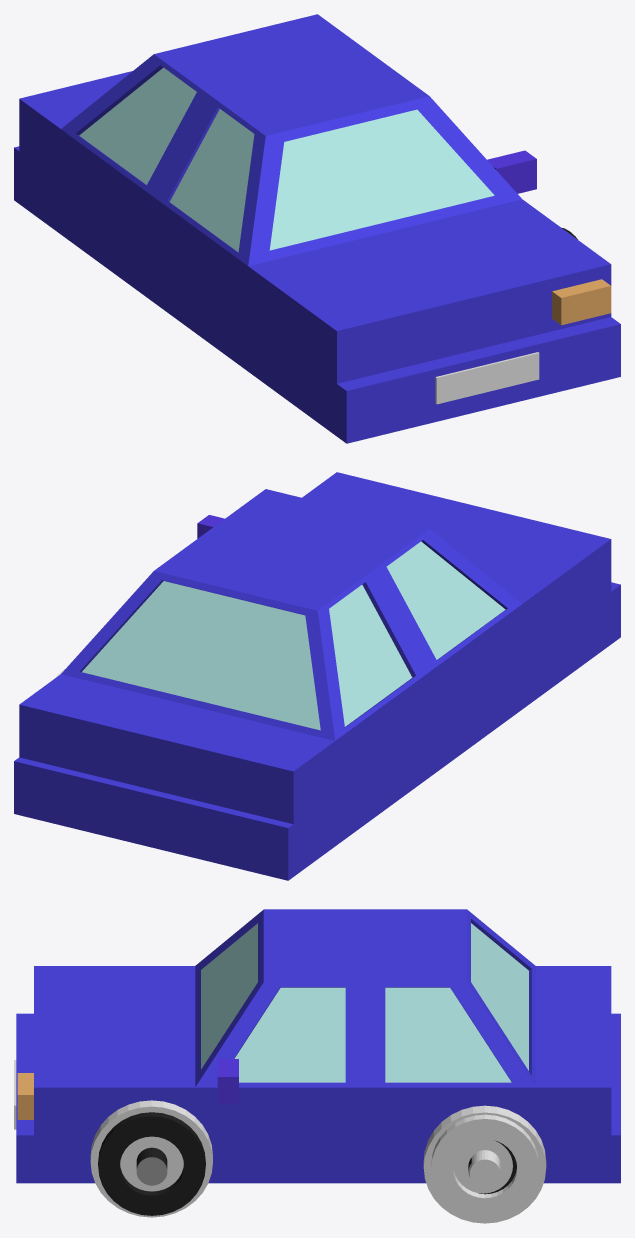
The model's file is purplecar.gltf.
The picture shows the model from 3 angles, top to bottom: view 1: azimuth 30°, elevation 25°; view 2: azimuth 150°, elevation 25°; view 3: azimuth 270°, elevation 25°; orthographic projection. The views are drawn at different scales.
Visible parts, largest first — view 1: Cube, Cube.003, Cube.001, Cube.002; view 2: Cube; view 3: Cube, Cylinder, Cylinder.002, Cylinder.001, Cylinder.003, Cube.002, Cube.001.
Part boxes in pixels (bbox=[...]): Cube: bbox=[14, 14, 620, 443]; Cube.003: bbox=[435, 352, 539, 404]; Cube.001: bbox=[552, 279, 611, 325]; Cube.002: bbox=[487, 150, 536, 193]; Cube: bbox=[14, 472, 620, 880]; Cube: bbox=[16, 909, 620, 1183]; Cylinder: bbox=[98, 1112, 205, 1215]; Cylinder.002: bbox=[431, 1114, 538, 1218]; Cylinder.001: bbox=[90, 1100, 212, 1217]; Cylinder.003: bbox=[423, 1105, 546, 1223]; Cube.002: bbox=[217, 1059, 238, 1104]; Cube.001: bbox=[17, 1073, 33, 1119].
Size of the model in its own units: 2.77 by 1.96 by 5.14.
